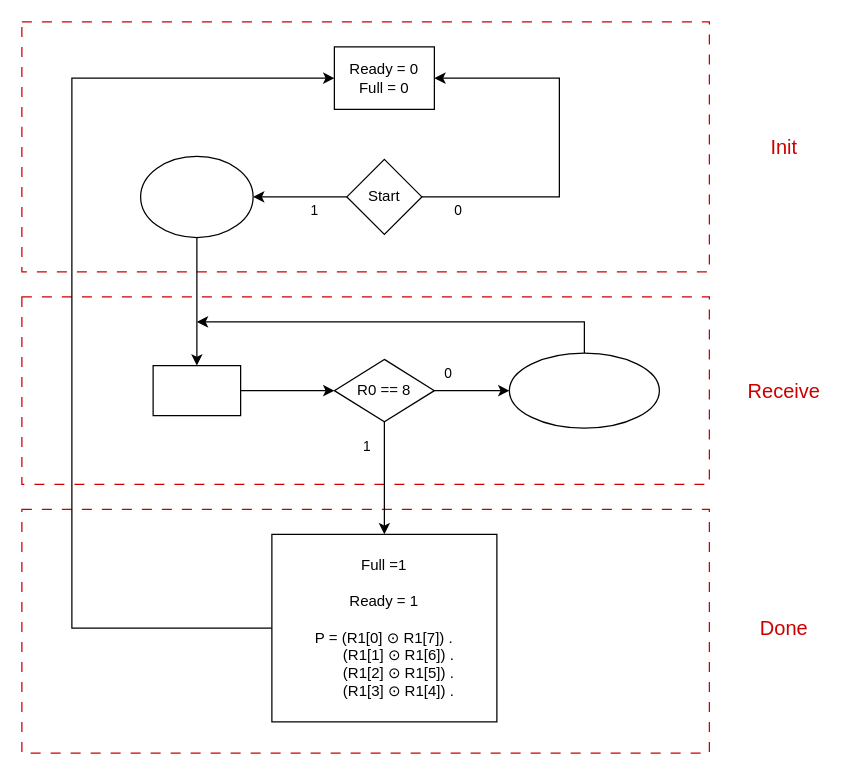
Some shapes in this 844 by 775 pixel diagram are drawn without their labels. Here are the shapes that lost their labels. From the top down, the box of each, then its label:
(139, 155, 253, 238): R0 ← 0 R1 ← 0
(508, 352, 659, 428): R1 ← {R1[6:0], X} R0 ← R0 + 1
